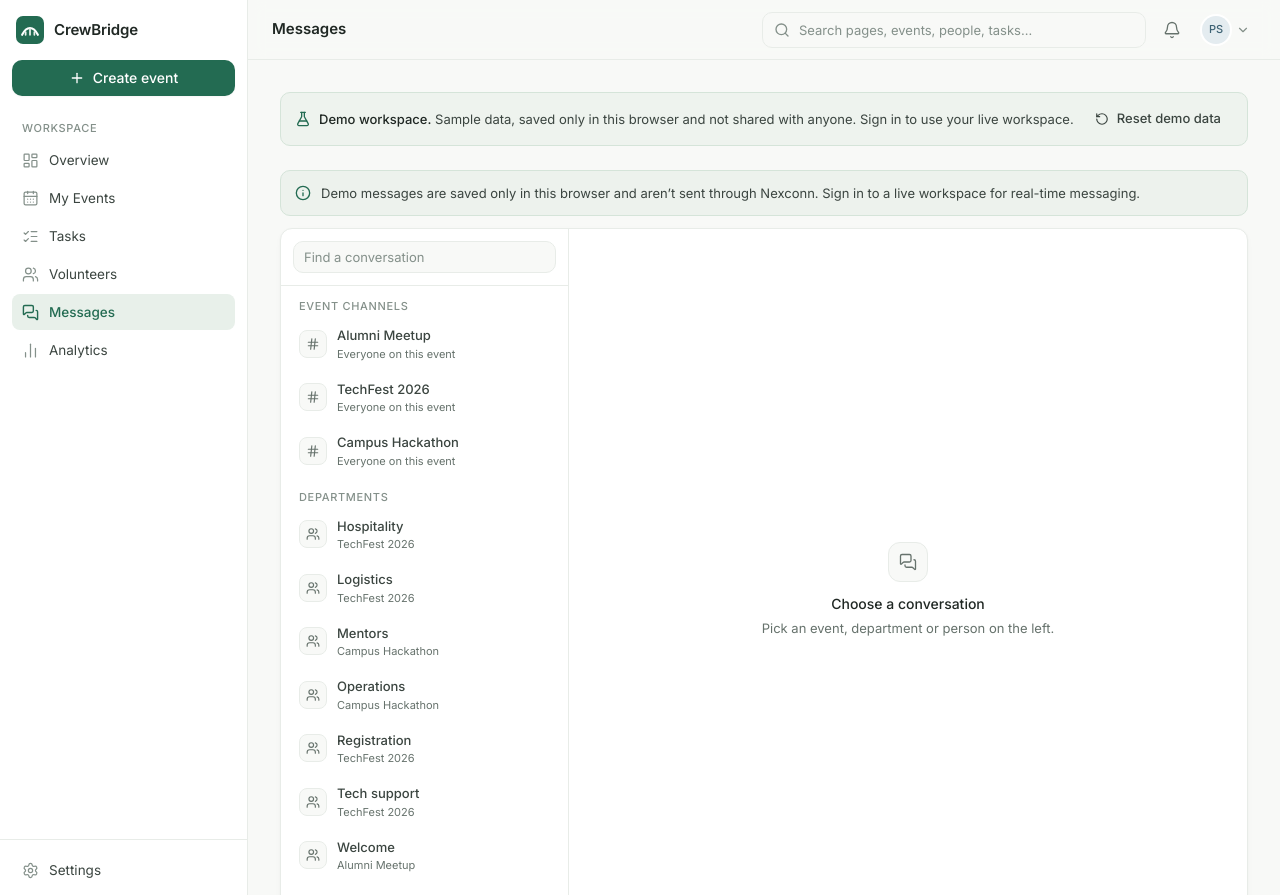
Scenario: messages — demo workspace › lists event, department and direct channels and sends a local message
Check: the text "aren’t sent through Nexconn" is shown, box [321, 185, 1140, 201]
Check: the text "Registration" is shown, box [337, 732, 411, 748]
Click the button "TechFest 2026 Everyone on this event" at (424,397), box [289, 372, 560, 423]
(page scrolled)
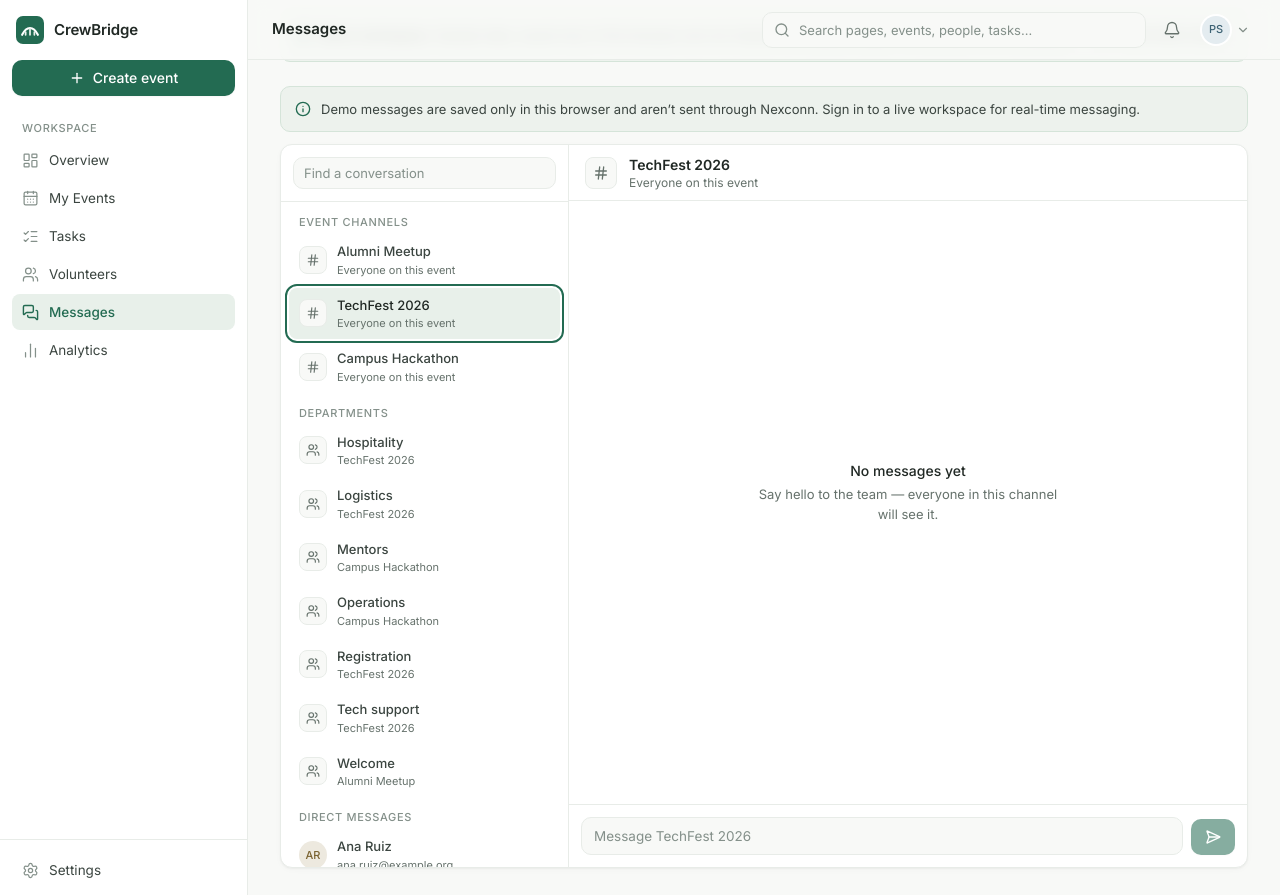
Check: the text "No messages yet" is shown, box [850, 461, 966, 481]
Type "Doors open at 9" into the text box labelled "Message TechFest 2026" at (882,836), box [581, 817, 1183, 855]
Then press Enter
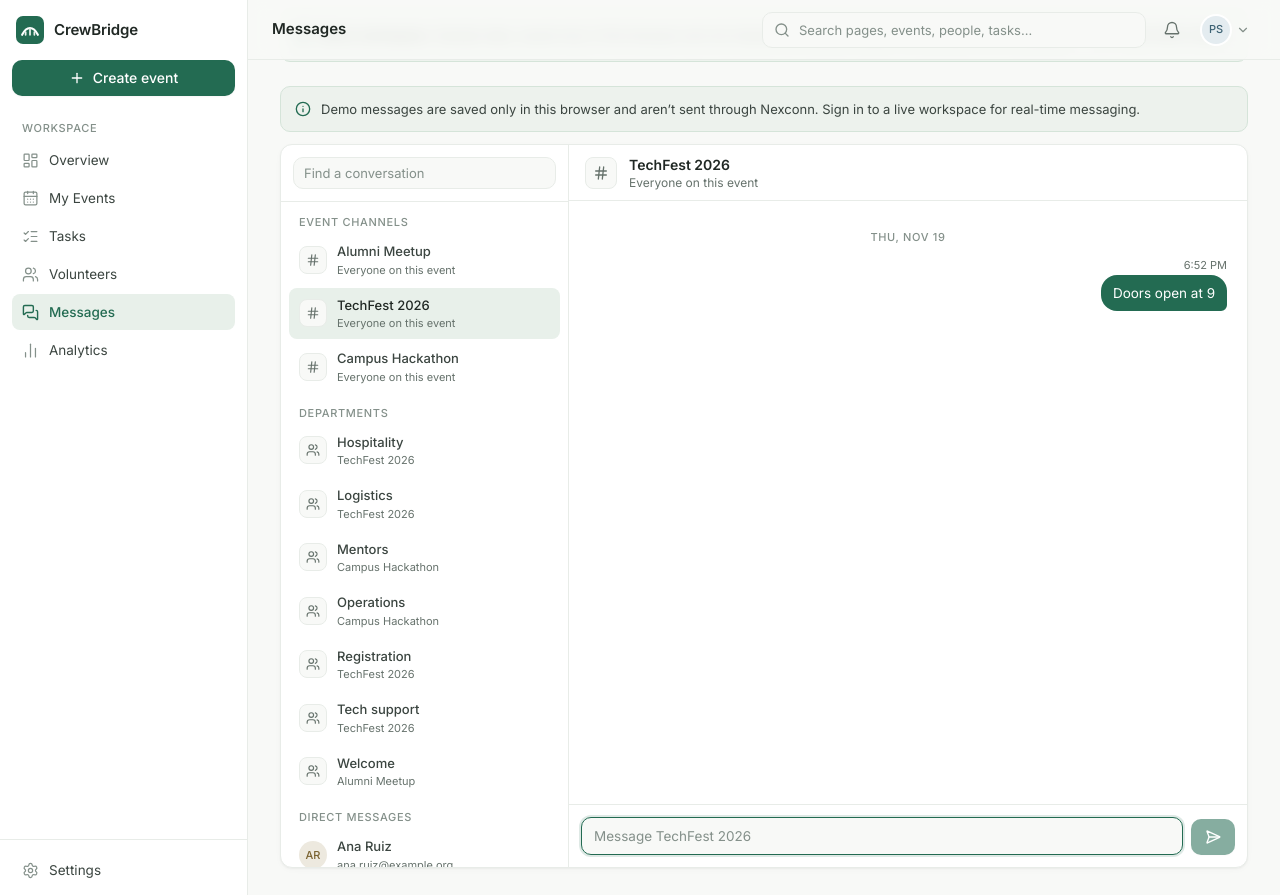
Check: the text box labelled "Message TechFest 2026" is empty, box [581, 817, 1183, 855]
Check: the text "Doors open at 9" is shown, box [1101, 275, 1227, 311]
